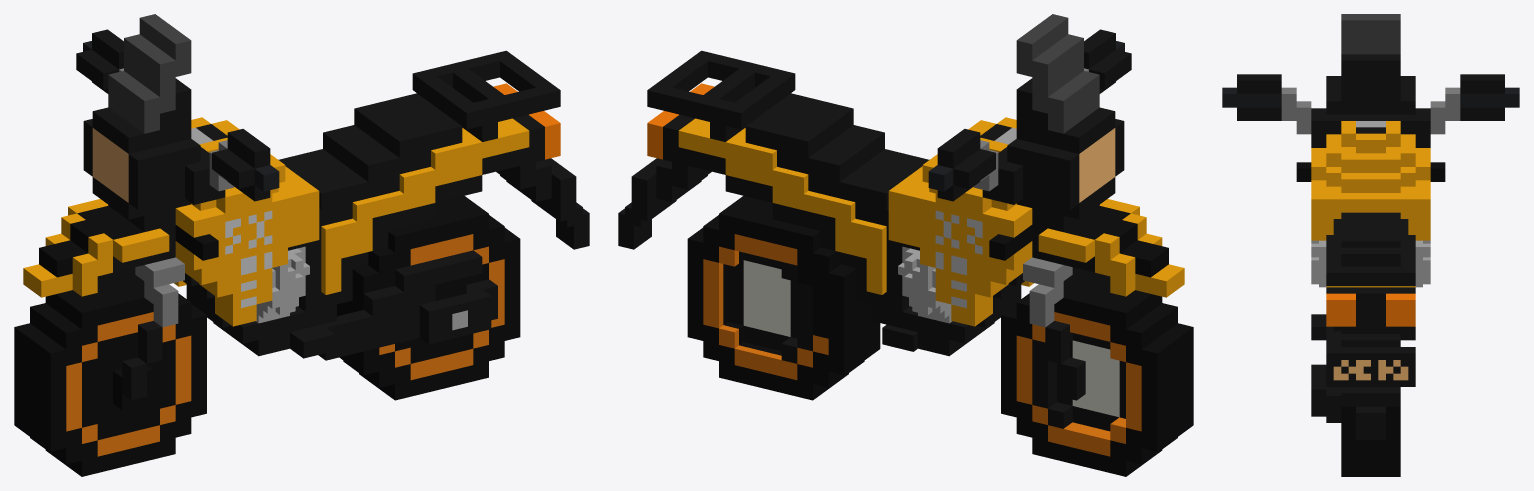
Rendered from yellowblackmotorbike-len2.glb.
3 renders of one model, left to right at view 1: azimuth 30°, elevation 25°; view 2: azimuth 150°, elevation 25°; view 3: azimuth 270°, elevation 25°, orthographic. The views are drawn at different scales.
Parts seen in each view (by area): view 1: _0; view 2: _0; view 3: _0.
Boxes of the visible parts, x1,y1,x2,y2 form: _0: [14, 14, 589, 476]; _0: [618, 14, 1193, 476]; _0: [1222, 14, 1519, 476].
Bounding box in the file's own units: 0.105 × 0.075 × 0.06.
